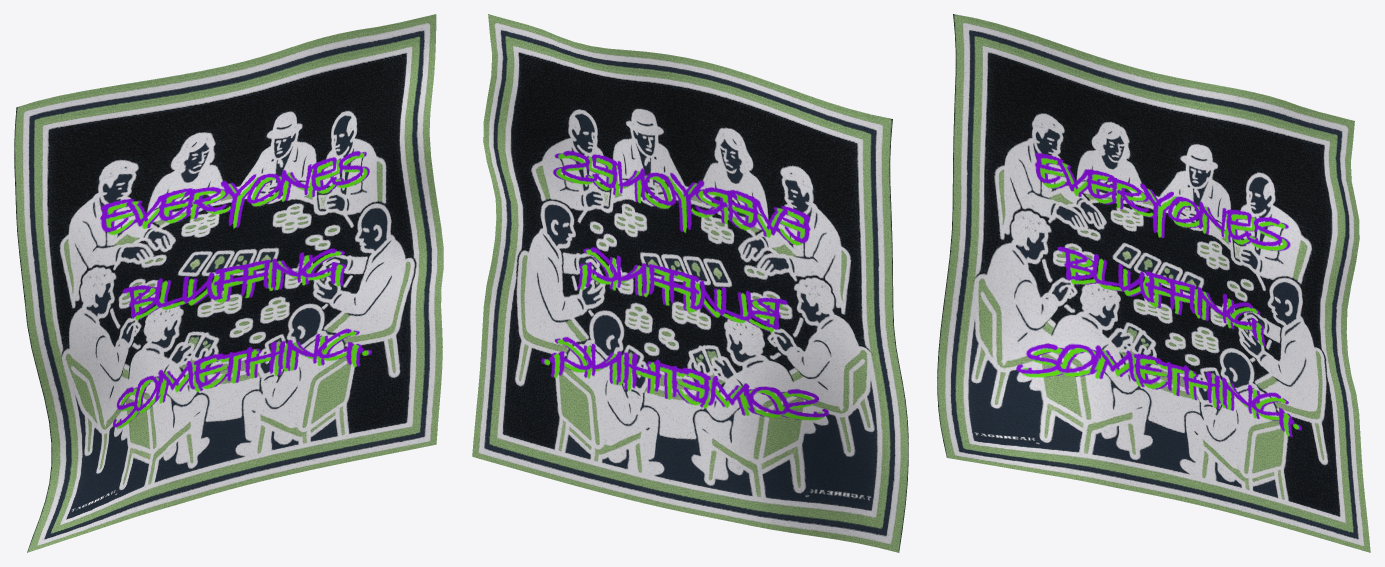
Rendered from scarf2.glb.
3 views of the same model, side by side, from view 1: azimuth 30°, elevation 25°; view 2: azimuth 150°, elevation 25°; view 3: azimuth 330°, elevation 25° (orthographic).
Parts seen in each view (by area): view 1: Plane; view 2: Plane; view 3: Plane.
Part boxes in pixels (bbox=[...]): Plane: bbox=[14, 14, 443, 552]; Plane: bbox=[472, 14, 908, 552]; Plane: bbox=[937, 14, 1370, 552].
Bounding box in the file's own units: 2 × 2.01 × 0.2616.
Materials: 1 (1 with a texture image).
